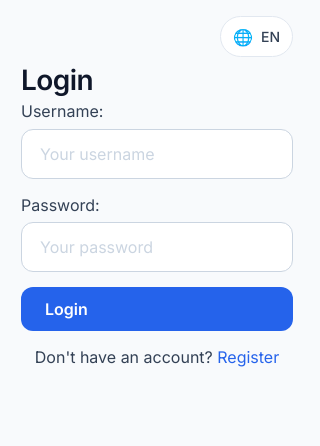
LoginPage › account lockout (429) › shows a real countdown when the server sends a valid Retry-After header
The width and height of the screenshot is (320, 446).
Type "aaryanlifts" into the field labelled "Username:" at (157, 154), box [21,129,293,179]
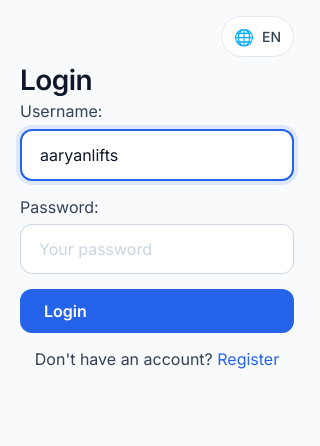
Type "wrongpass" into the password field labelled "Password:" at (157, 249), box [20,224,294,274]
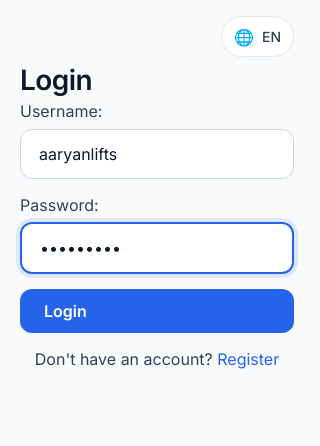
Click the button "Login" at (65, 311), box [20,289,294,333]
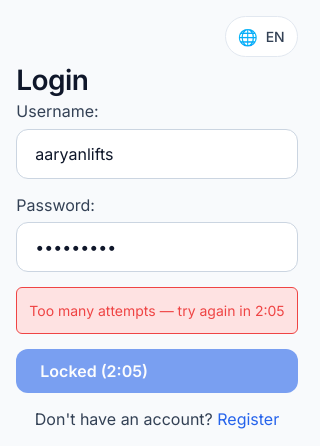
Check: the button "Locked (2:05)" is shown, box [16,349,298,393]
